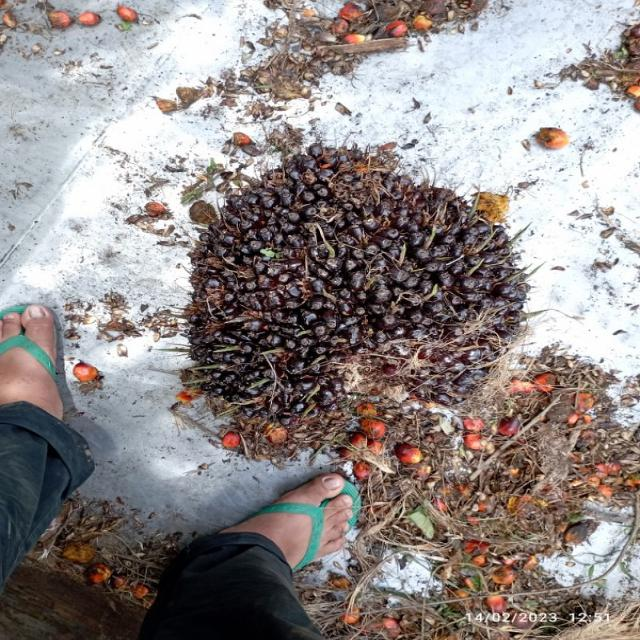fraksi 00: (175, 146, 530, 442)
